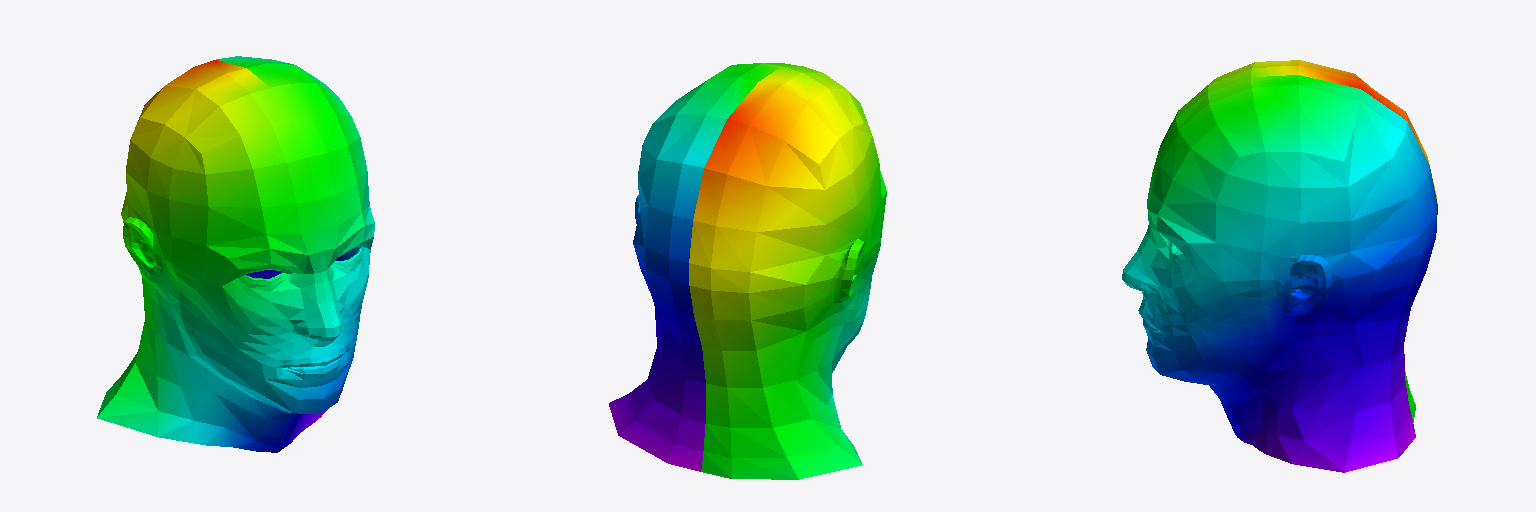
The picture shows the model from 3 angles: view 1: azimuth 30°, elevation 25°; view 2: azimuth 150°, elevation 25°; view 3: azimuth 270°, elevation 25°; orthographic projection.
Parts seen in each view (by area): view 1: Head; view 2: Head; view 3: Head.
Part boxes in pixels (x1,y1,x2,y2): Head: (97, 56, 374, 452); Head: (609, 63, 886, 479); Head: (1122, 60, 1437, 472).
Size of the model in its own units: 0.7275 by 0.9889 by 0.7803.
Materials: 1 (1 with a texture image).